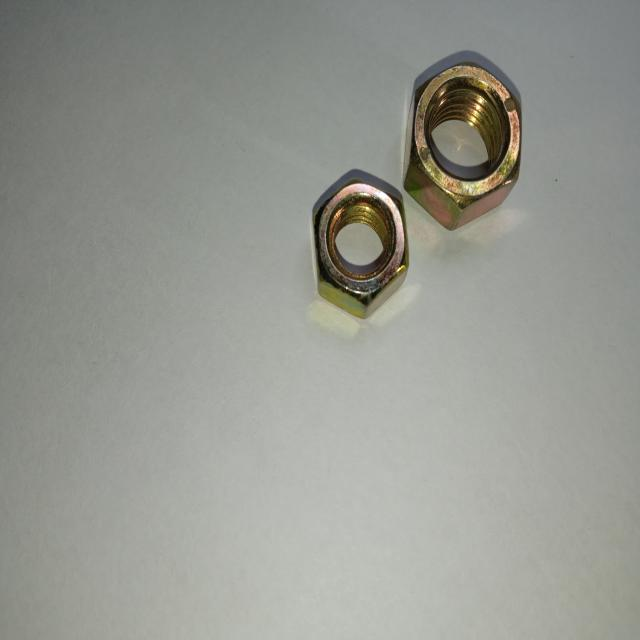m10: (424, 65, 524, 221)
m8: (310, 180, 405, 301)
